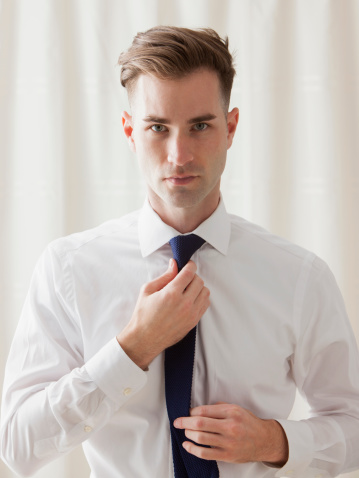em pe: (13, 17, 353, 457)
